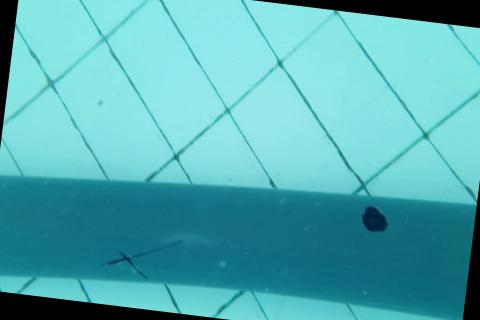kebocoran: (359, 203, 390, 235)
keretakan: (98, 228, 183, 283)
